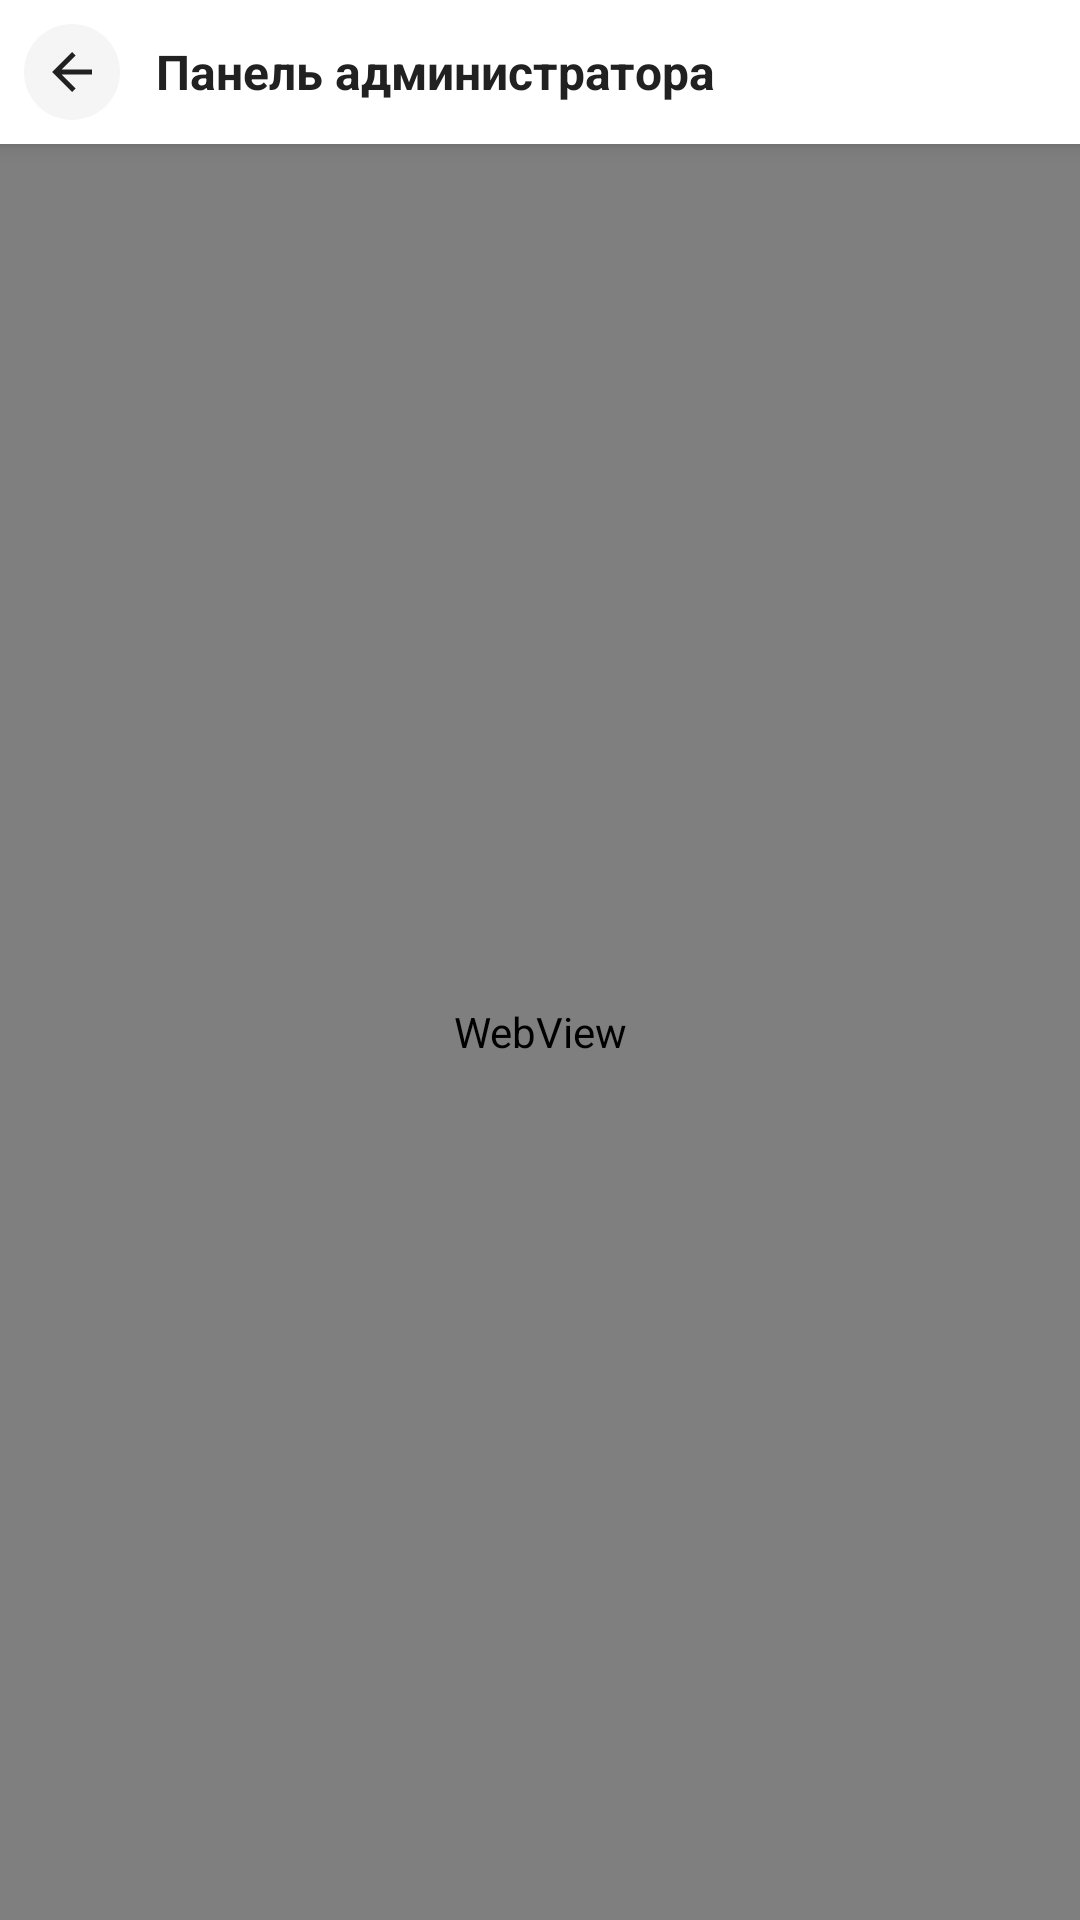

Where to tap for icons on this 1080 x 1920 app screen, as [x,y]:
Назад: [72,72]
